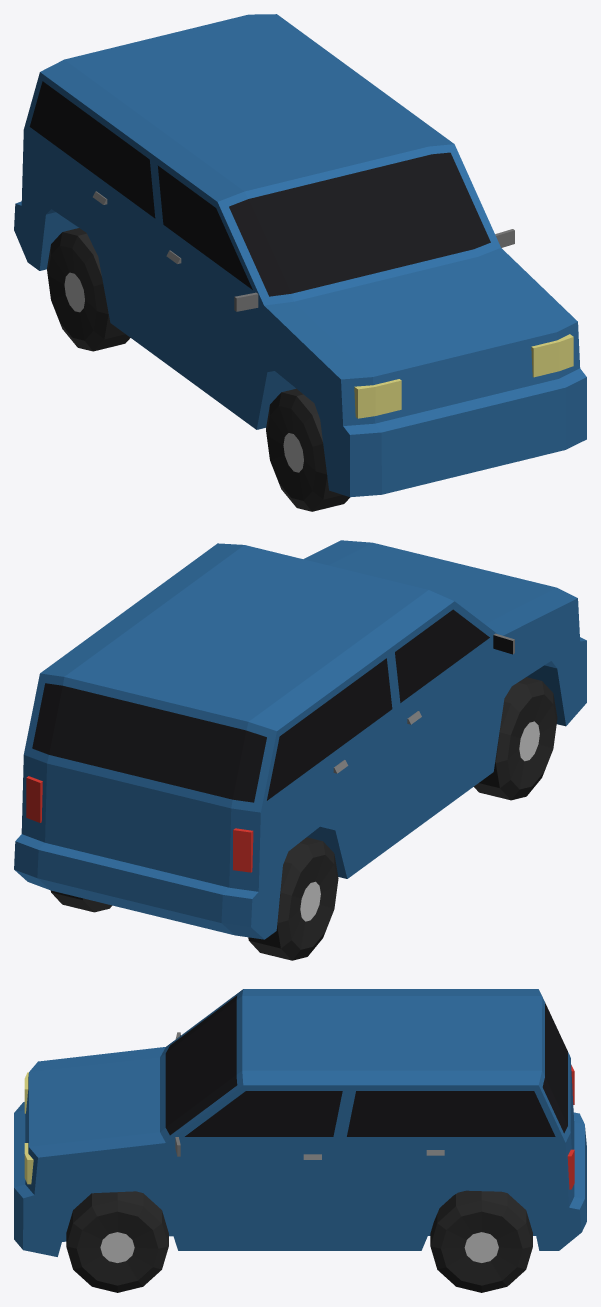
File: SUV_03.fbx
3 views of the same model, one above another, from view 1: azimuth 30°, elevation 25°; view 2: azimuth 150°, elevation 25°; view 3: azimuth 270°, elevation 25° (orthographic). The views are drawn at different scales.
Parts seen in each view (by area): view 1: SUV_03; view 2: SUV_03; view 3: SUV_03.
Boxes of the visible parts, bbox=[...] form: SUV_03: bbox=[14, 14, 586, 511]; SUV_03: bbox=[14, 540, 586, 960]; SUV_03: bbox=[14, 989, 586, 1292].
Bounding box in the file's own units: 3.42 × 3.01 × 7.33.
